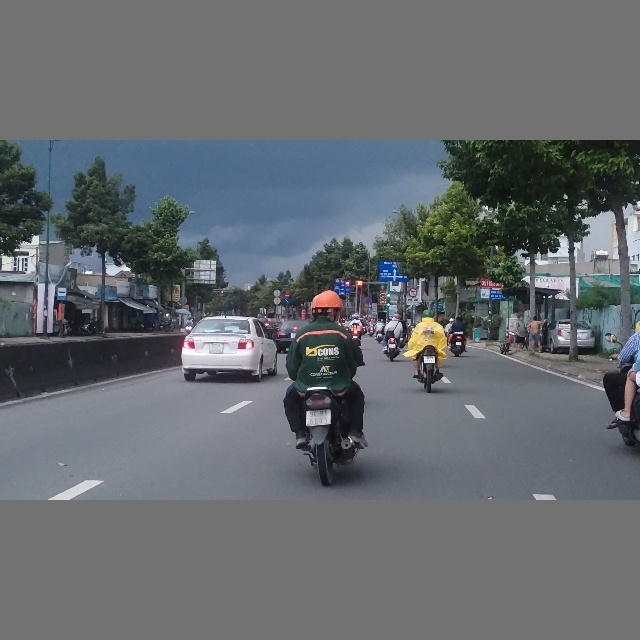P.102: (284, 293, 290, 298)
P.137: (409, 288, 417, 297)
R.302a: (284, 298, 290, 304)
R.415a: (334, 283, 350, 295)
